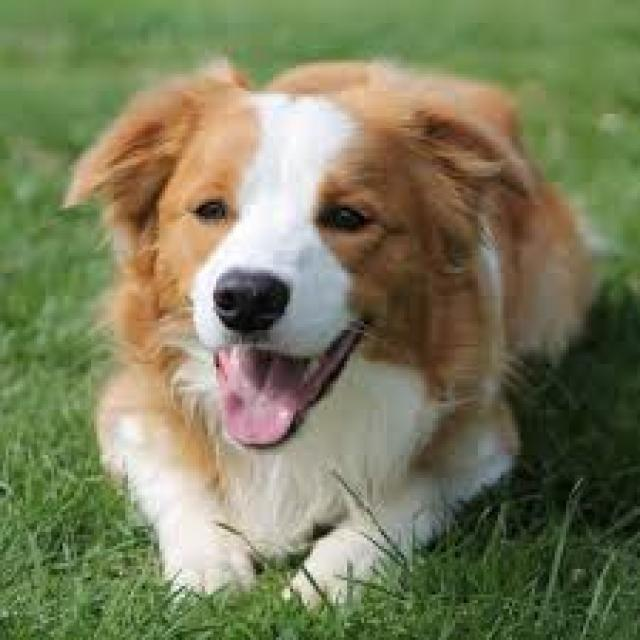BORDER_COLLIE: (59, 16, 606, 624)
